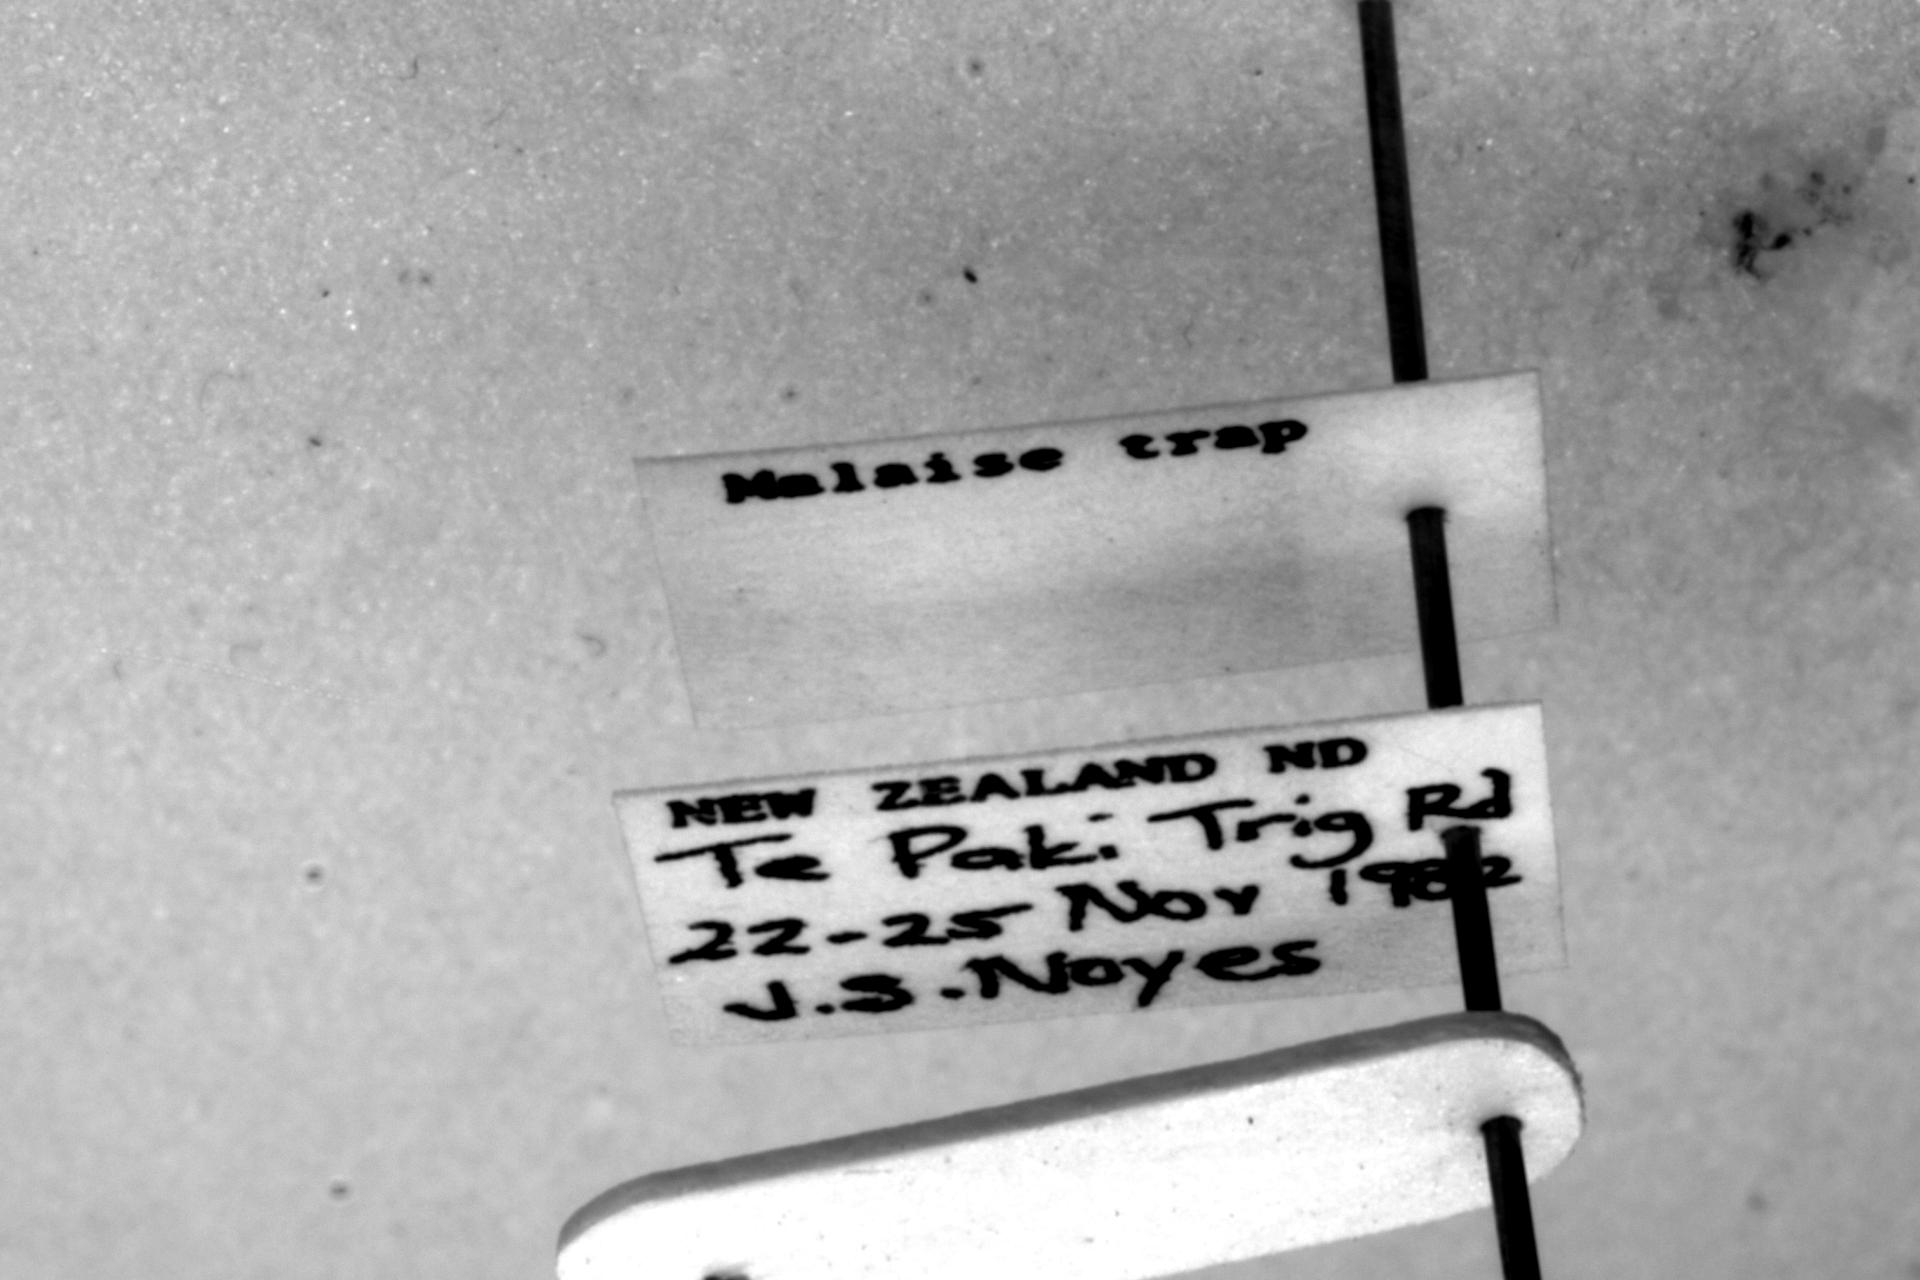mixed_label: (614, 706, 1564, 1043)
typed_label: (637, 371, 1556, 727)
